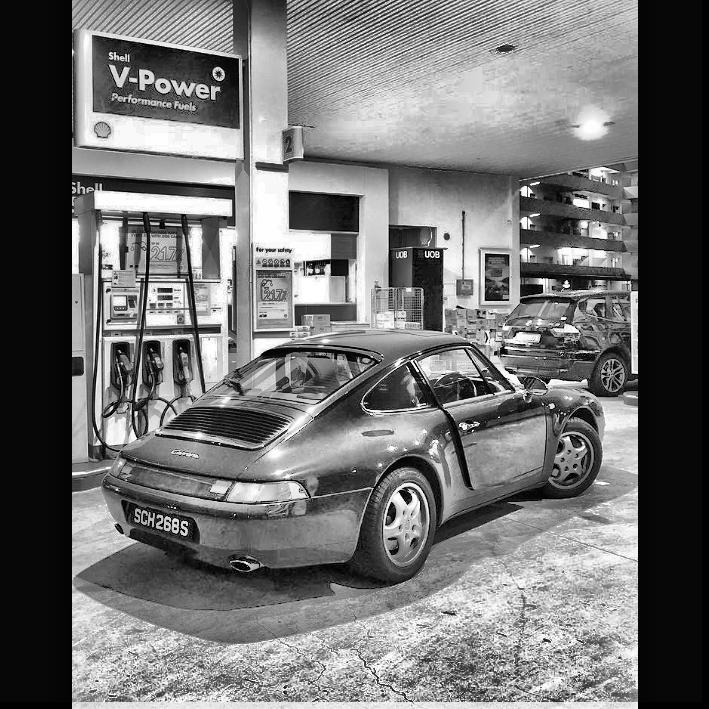License-Plates: (130, 504, 192, 540), (515, 334, 540, 342)
